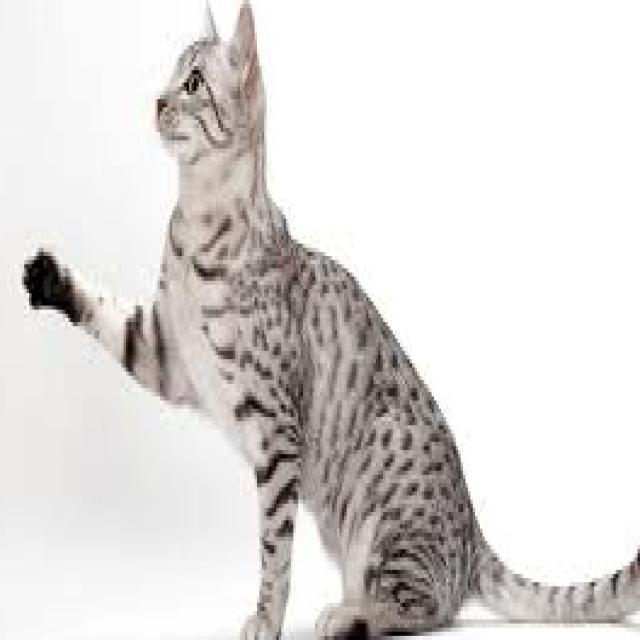Egyptian Mau: (17, 0, 640, 640)
